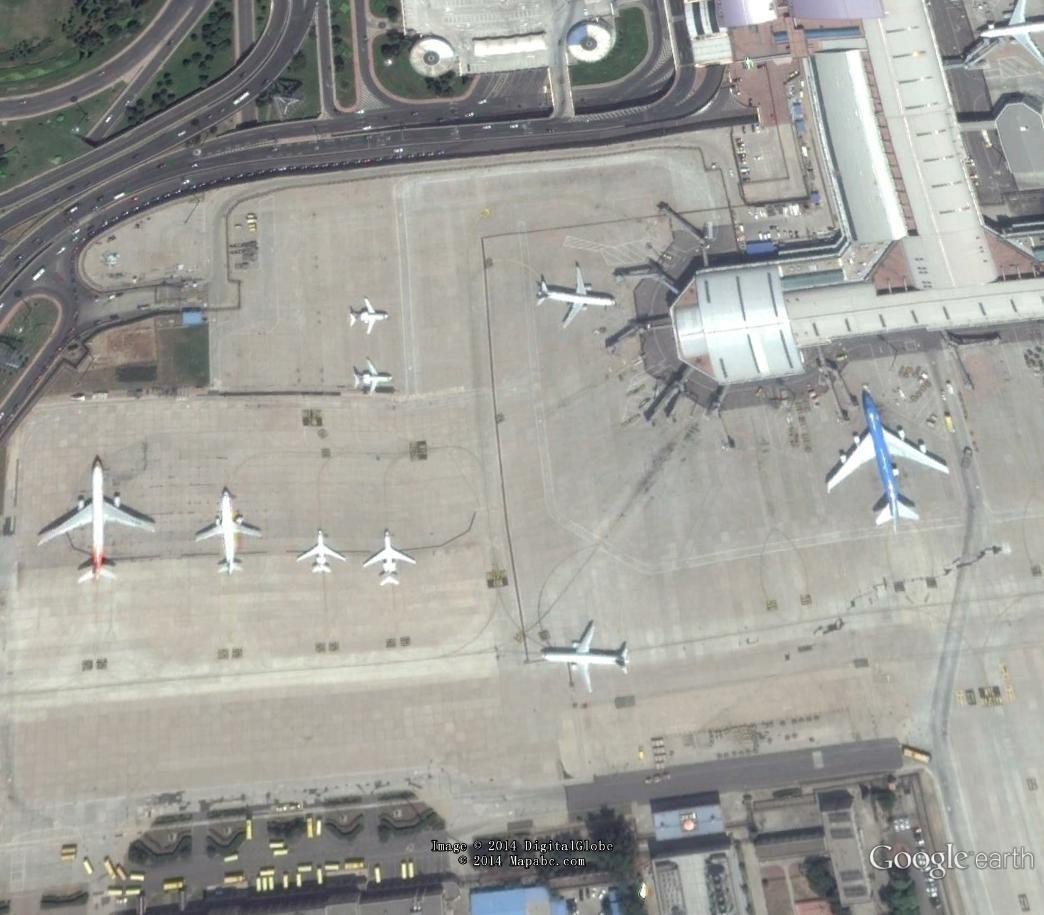aircraft: (819, 385, 955, 532), (33, 453, 160, 592), (535, 616, 631, 696), (190, 486, 267, 576), (532, 261, 621, 330), (964, 3, 1042, 70), (361, 525, 423, 591), (292, 528, 351, 576), (343, 295, 396, 337), (352, 355, 397, 399)
